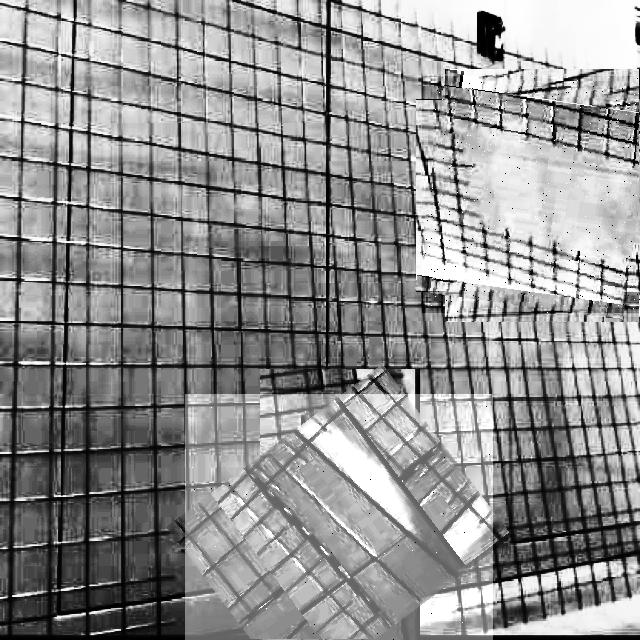anomaly-fence: (185, 394, 493, 640), (422, 76, 640, 313)
